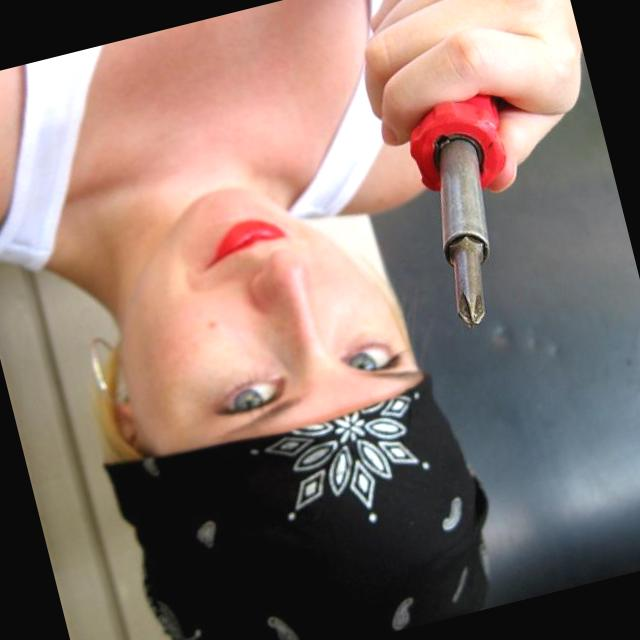screwdriver: (410, 95, 505, 328)
